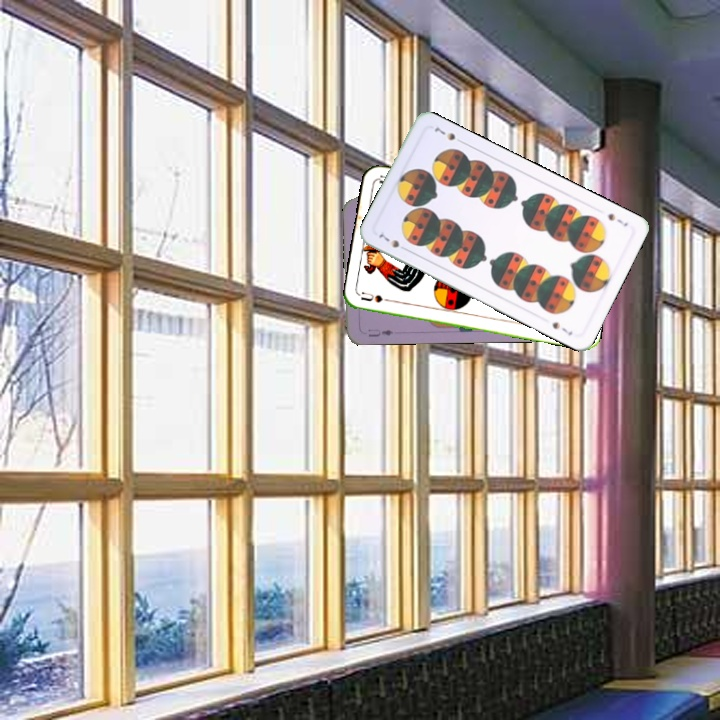EU: (364, 325, 396, 339)
S7: (375, 229, 411, 254), (604, 209, 631, 229)
SU: (358, 288, 398, 305)
